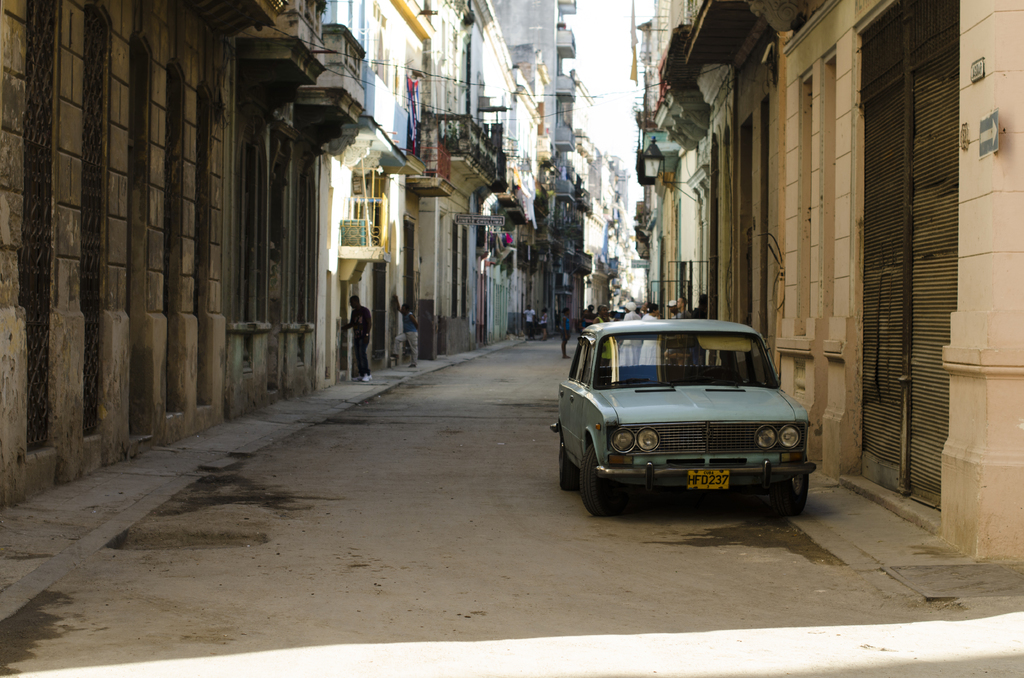Car: (553, 313, 809, 524)
